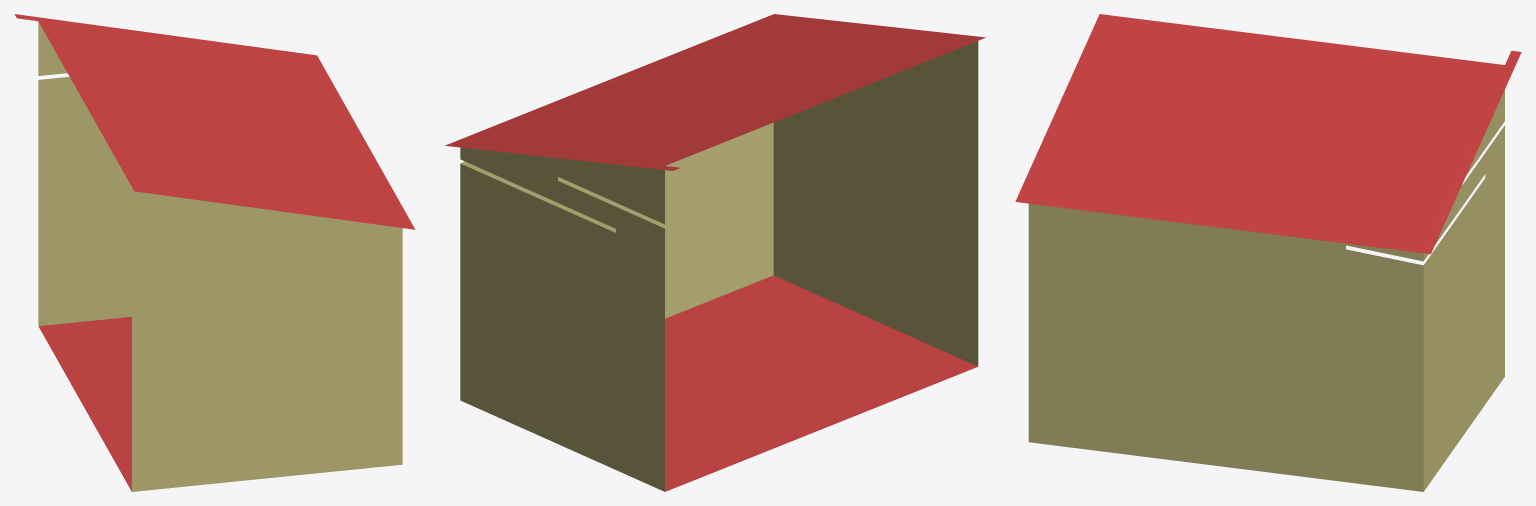
3 views of the same model, side by side, from view 1: azimuth 30°, elevation 25°; view 2: azimuth 150°, elevation 25°; view 3: azimuth 270°, elevation 25° (orthographic). The views are drawn at different scales.
Bounding box in the file's own units: 9.44 × 11.74 × 8.11.
